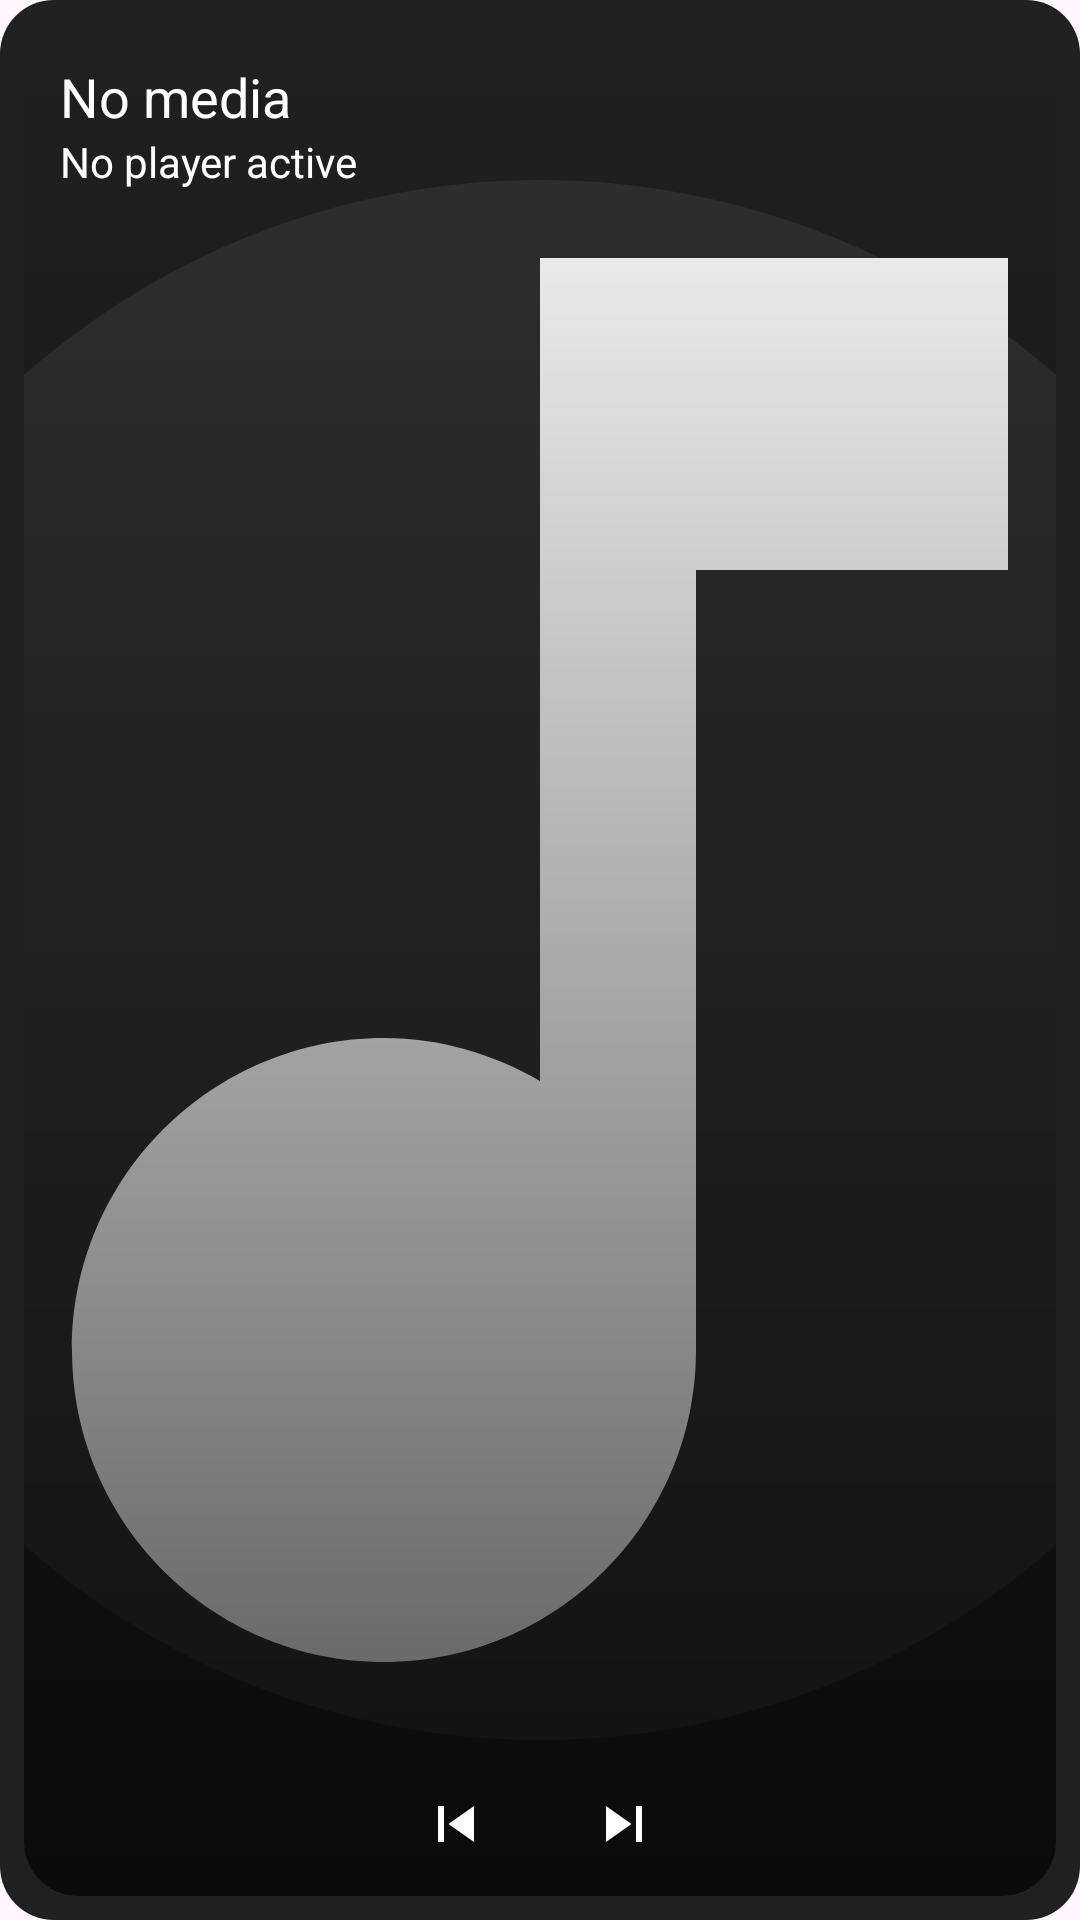

Icon click points for this 1080*1920 phone screenshot, format (x,y):
next: (624,1824)
prev: (456,1824)
